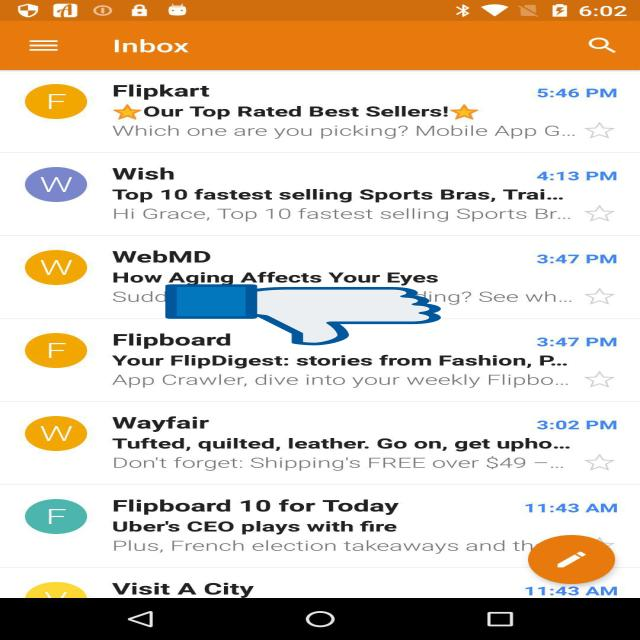obstruction: (165, 283, 441, 347)
